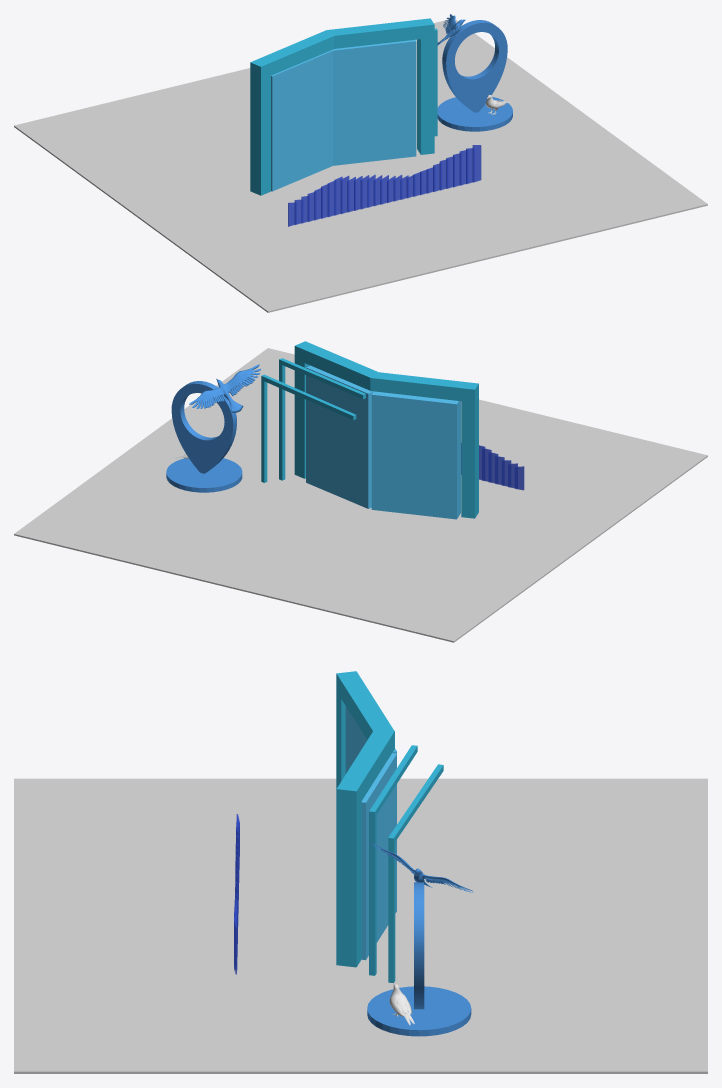
The picture shows the model from 3 angles, top to bottom: view 1: azimuth 30°, elevation 25°; view 2: azimuth 150°, elevation 25°; view 3: azimuth 270°, elevation 25°; orthographic projection. The views are drawn at different scales.
Parts seen in each view (by area): view 1: Ground, Cube.001, Cube, Cube.002, Cube.003, Curve, Cylinder; view 2: Ground, Cube, Cube.001, Cube.002, Cube.003, Curve, Cylinder, Cube.005, Cube.004, DOVE; view 3: Ground, Cube.003, Cube.001, Cylinder, Cube.002, Cube.004, Cube.005, Curve, Cube, DOVE.
Part boxes in pixels (bbox=[...]): Ground: bbox=[14, 19, 707, 312]; Cube.001: bbox=[333, 40, 416, 165]; Cube: bbox=[271, 49, 333, 191]; Cube.002: bbox=[250, 30, 335, 195]; Cube.003: bbox=[326, 18, 434, 154]; Curve: bbox=[442, 20, 507, 112]; Cylinder: bbox=[437, 97, 512, 131]; Ground: bbox=[14, 348, 707, 642]; Cube: bbox=[371, 391, 460, 519]; Cube.001: bbox=[306, 365, 373, 508]; Cube.002: bbox=[370, 371, 478, 518]; Cube.003: bbox=[294, 341, 380, 478]; Curve: bbox=[171, 381, 236, 473]; Cylinder: bbox=[166, 458, 242, 492]; Cube.005: bbox=[261, 374, 356, 482]; Cube.004: bbox=[279, 358, 365, 480]; DOVE: bbox=[189, 364, 260, 412]; Ground: bbox=[14, 778, 707, 1073]; Cube.003: bbox=[336, 731, 394, 967]; Cube.001: bbox=[361, 753, 396, 960]; Cylinder: bbox=[367, 986, 471, 1036]; Cube.002: bbox=[336, 671, 394, 788]; Cube.004: bbox=[369, 745, 417, 975]; Cube.005: bbox=[388, 764, 443, 983]; Curve: bbox=[414, 882, 424, 1009]; Cube: bbox=[345, 706, 396, 773]; DOVE: bbox=[370, 842, 473, 892].
Size of the model in its own units: 10 by 3.24 by 10.
